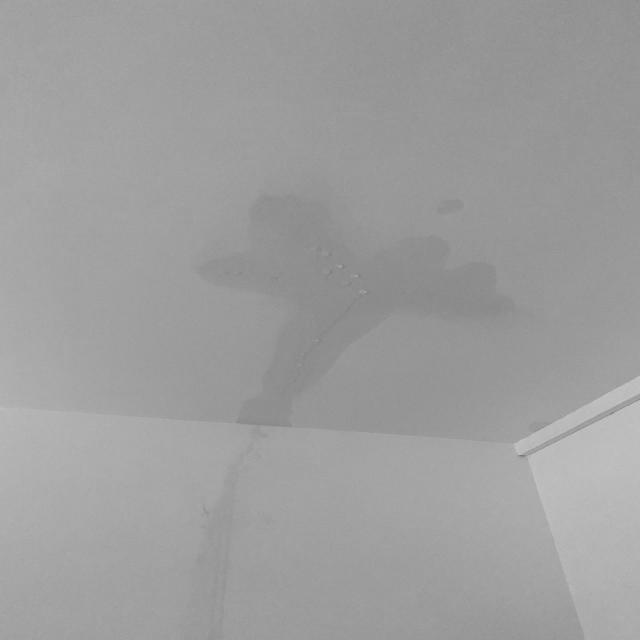stain marks: (178, 191, 547, 340), (186, 431, 287, 628), (228, 330, 362, 432)
